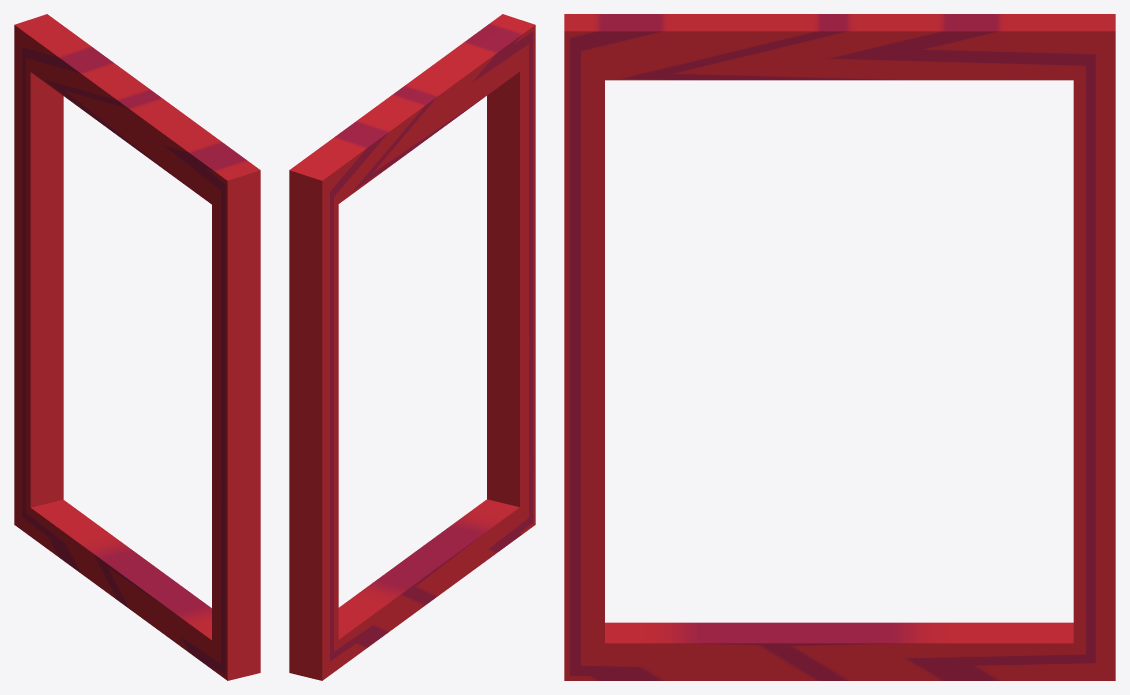
File: just-frame1.obj
3 views of the same model, side by side, from view 1: azimuth 30°, elevation 25°; view 2: azimuth 150°, elevation 25°; view 3: azimuth 270°, elevation 25° (orthographic). The views are drawn at different scales.
Parts seen in each view (by area): view 1: door1:pCube12; view 2: door1:pCube12; view 3: door1:pCube12.
Part boxes in pixels (x1,y1,x2,y2): door1:pCube12: (14,14,260,680); door1:pCube12: (289,14,535,680); door1:pCube12: (564,14,1115,680).
Bounding box in the file's own units: 1.99 × 29.01 × 22.31.
